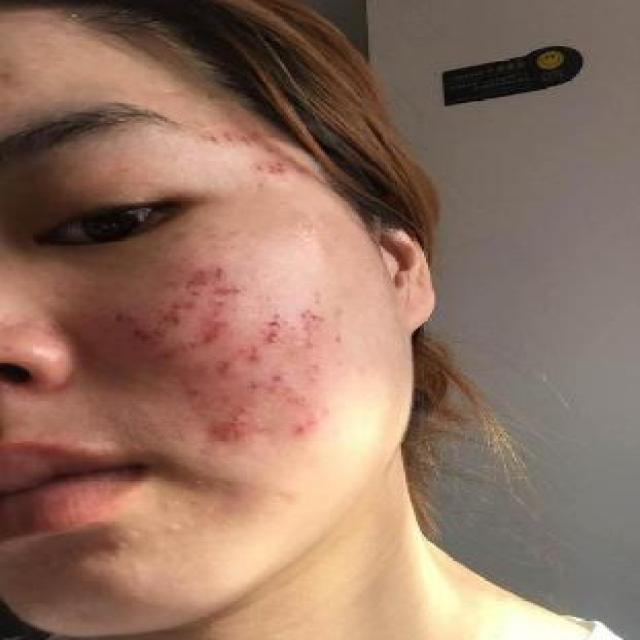dark spot: (243, 368, 315, 402), (206, 400, 255, 448), (294, 305, 338, 352), (257, 312, 292, 351), (288, 406, 327, 440), (179, 257, 212, 292), (200, 312, 230, 350), (152, 297, 198, 321), (130, 326, 173, 351), (256, 156, 298, 176), (212, 352, 241, 380), (111, 309, 142, 329), (208, 286, 247, 299), (212, 260, 230, 282), (247, 343, 261, 369)
